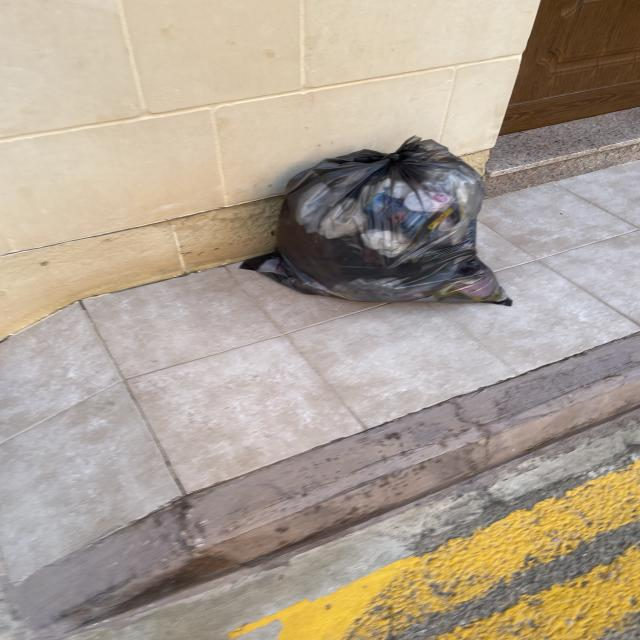black_bag: (248, 130, 519, 312)
